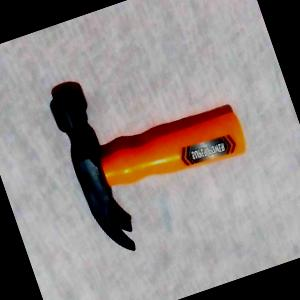martelo: (43, 38, 269, 264)
